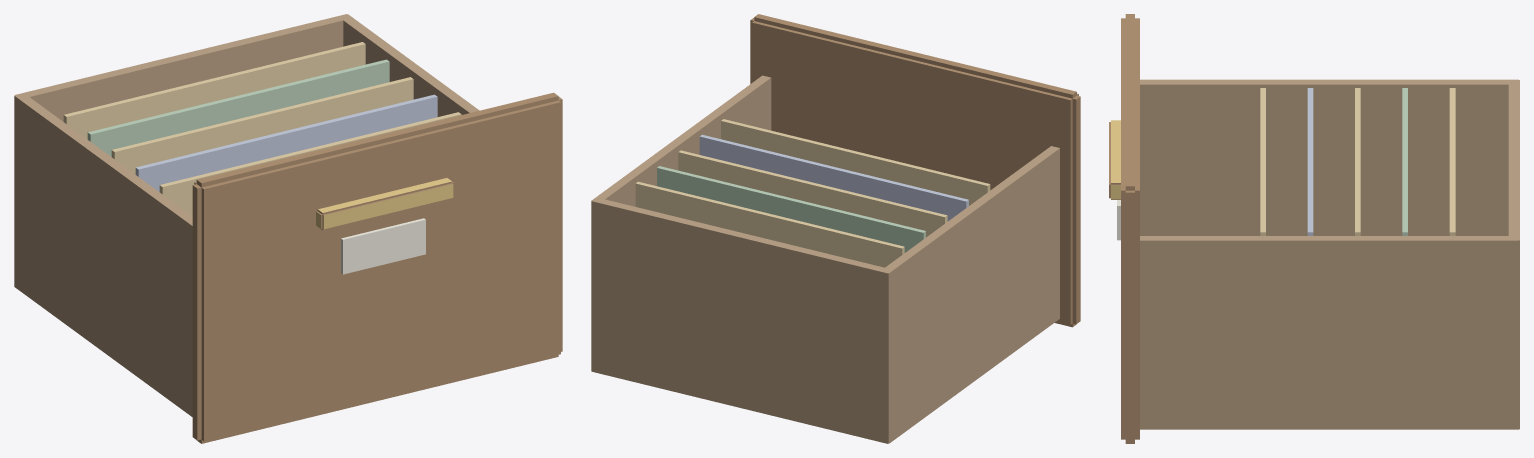
Rendered from archivero_cajon.glb.
3 renders of one model, left to right at view 1: azimuth 30°, elevation 25°; view 2: azimuth 150°, elevation 25°; view 3: azimuth 270°, elevation 25°, orthographic. The views are drawn at different scales.
Parts seen in each view (by area): view 1: archivero_cajon; view 2: archivero_cajon; view 3: archivero_cajon.
Part boxes in pixels (x1,y1,x2,y2): archivero_cajon: (14,14,562,443); archivero_cajon: (591,14,1080,443); archivero_cajon: (1109,14,1519,443).
Bounding box in the file's own units: 0.44 × 0.3 × 0.4335.
